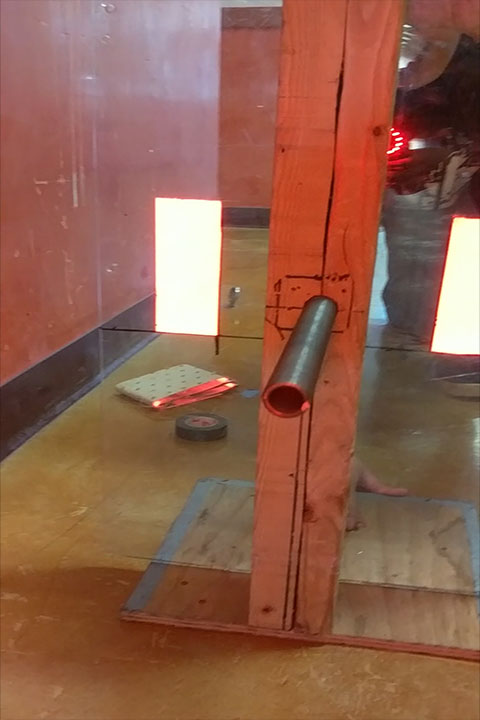gear: (154, 197, 220, 338), (429, 216, 480, 354)
